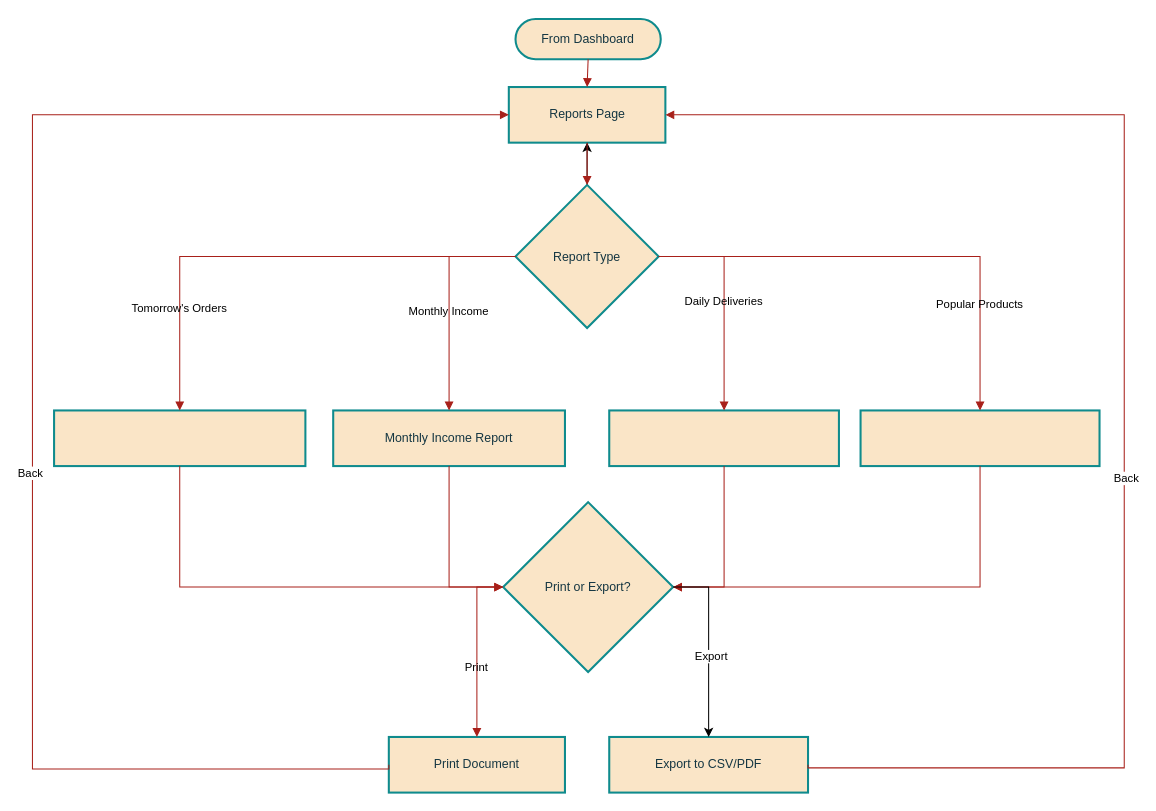
Image size: 1156x811. Some labels were removed from this diagram. The shapes that lost their labels are listed below. From the top down, each one's box as (x1, y1, x2, y2) in pixels, then its label:
(53, 409, 306, 467): Tomorrow's Orders Report
(608, 409, 839, 467): Daily Deliveries Report
(859, 409, 1100, 467): Popular Products Report
